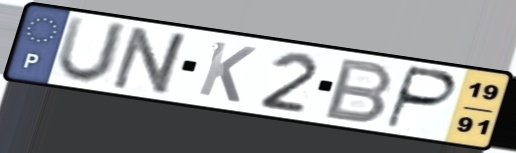2: (256, 50, 320, 116)
B: (320, 56, 398, 126)
K: (194, 38, 259, 106)
N: (107, 25, 196, 98)
P: (381, 64, 460, 132)
U: (52, 13, 132, 86)
